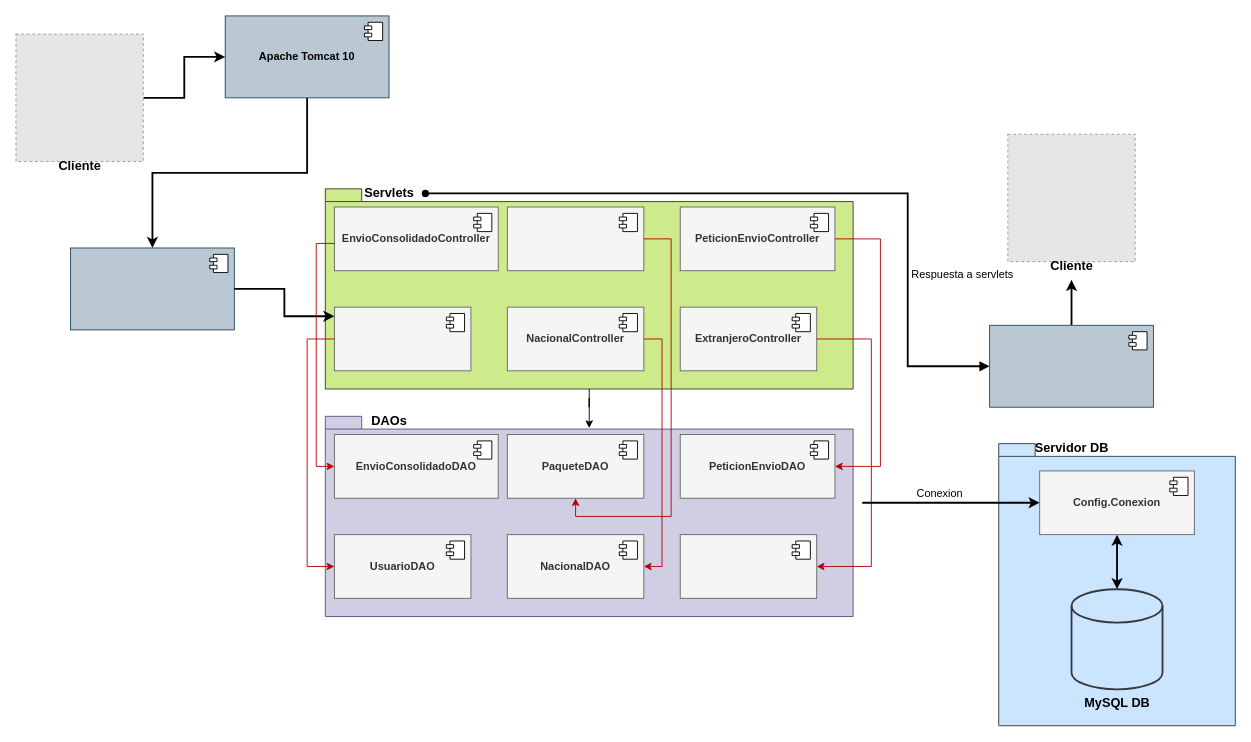
The diagram is 1251 pixels wide and 742 high, and some of its shapes have lost their labels. Grey dashed boxes stand in for pictures. Here are the shapes that lost their labels. From the top down, the centre of each, then its label:
pixel 575 238: PaqueteController
pixel 152 288: AutenticacionFilter
pixel 402 338: UsuarioController
pixel 1071 365: Vistas en JSP/JSPF
pixel 748 566: ExtranjeroDAO
